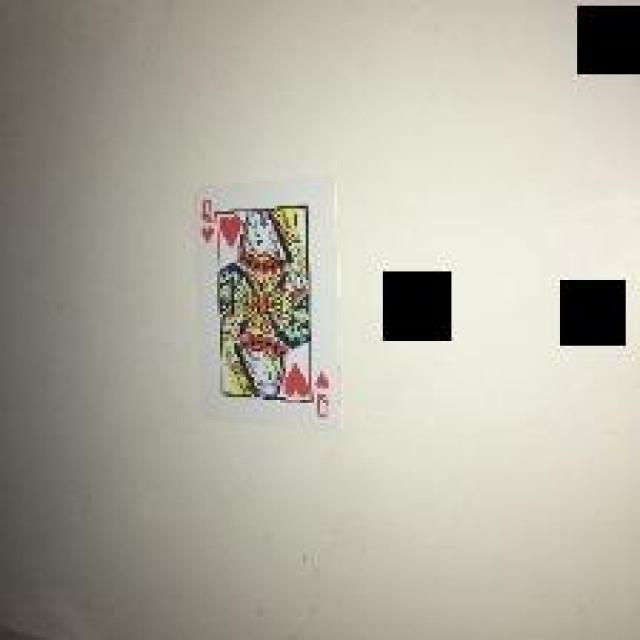Queen of hearts: (189, 184, 337, 434)
